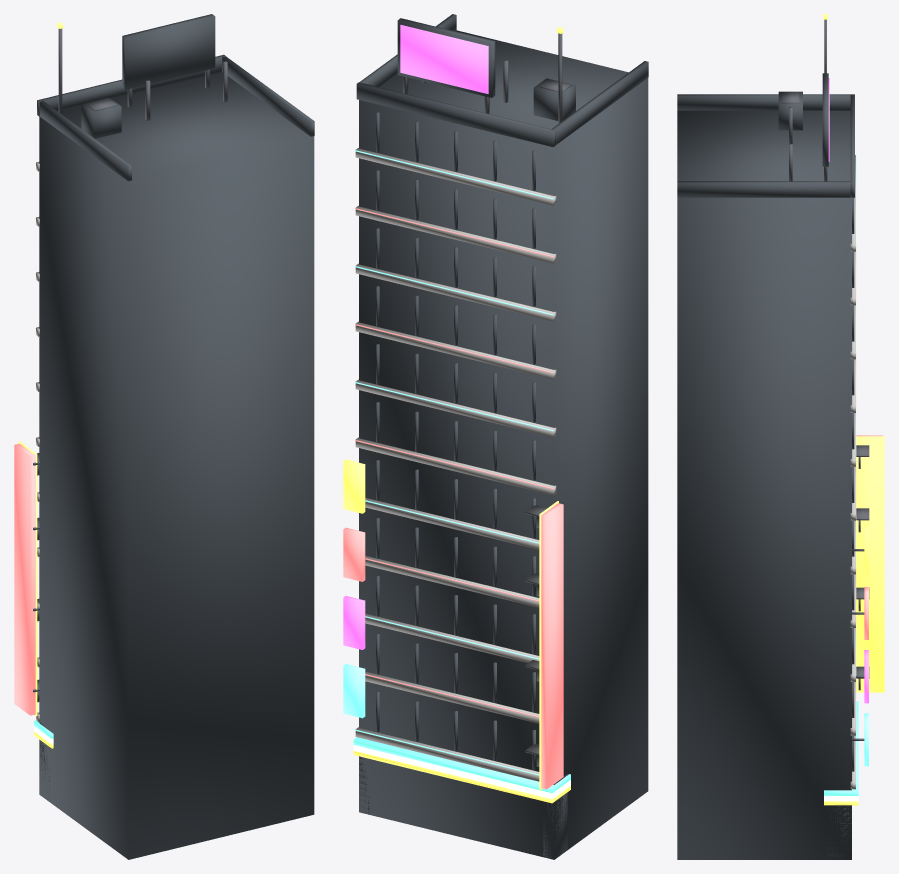
Rendered from tokyo_neon_tower_d.glb.
3 renders of one model, left to right at view 1: azimuth 30°, elevation 25°; view 2: azimuth 150°, elevation 25°; view 3: azimuth 270°, elevation 25°, orthographic. The views are drawn at different scales.
Parts seen in each view (by area): view 1: tokyo_neon_tower_d; view 2: tokyo_neon_tower_d; view 3: tokyo_neon_tower_d.
Part boxes in pixels (box(x1,y1,x2,y2)): tokyo_neon_tower_d: box(14, 14, 314, 859); tokyo_neon_tower_d: box(343, 14, 648, 859); tokyo_neon_tower_d: box(677, 14, 884, 859).
Bounding box in the file's own units: 12.98 × 48.08 × 11.88.
